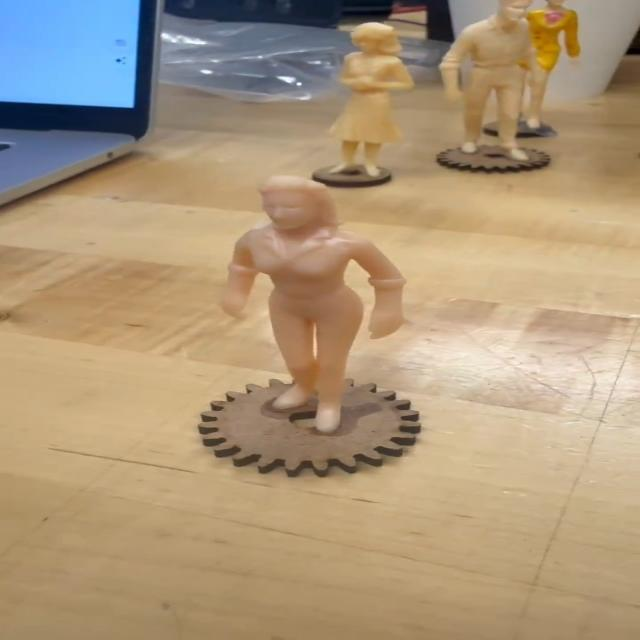Unauthorized: (218, 170, 417, 435)
